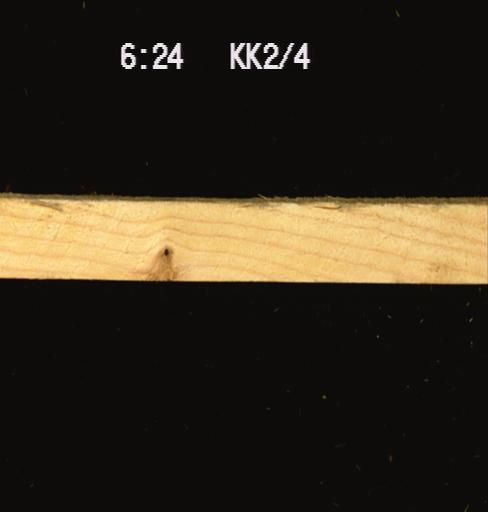small_knot: (161, 245, 171, 258)
split: (309, 201, 343, 212)
